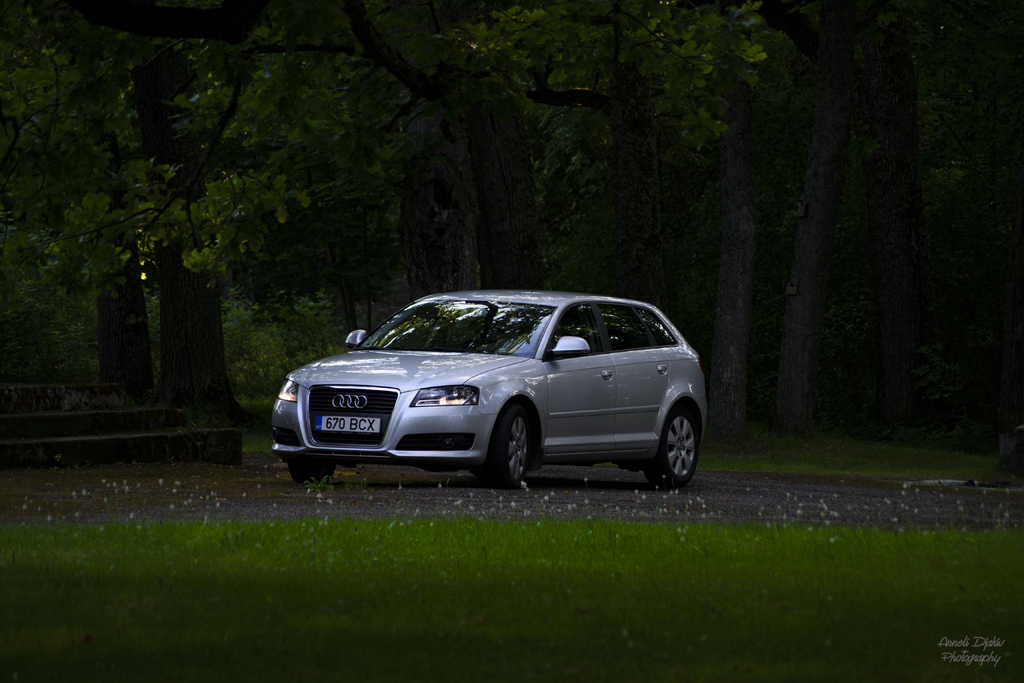Tree: (0, 0, 1024, 481)
